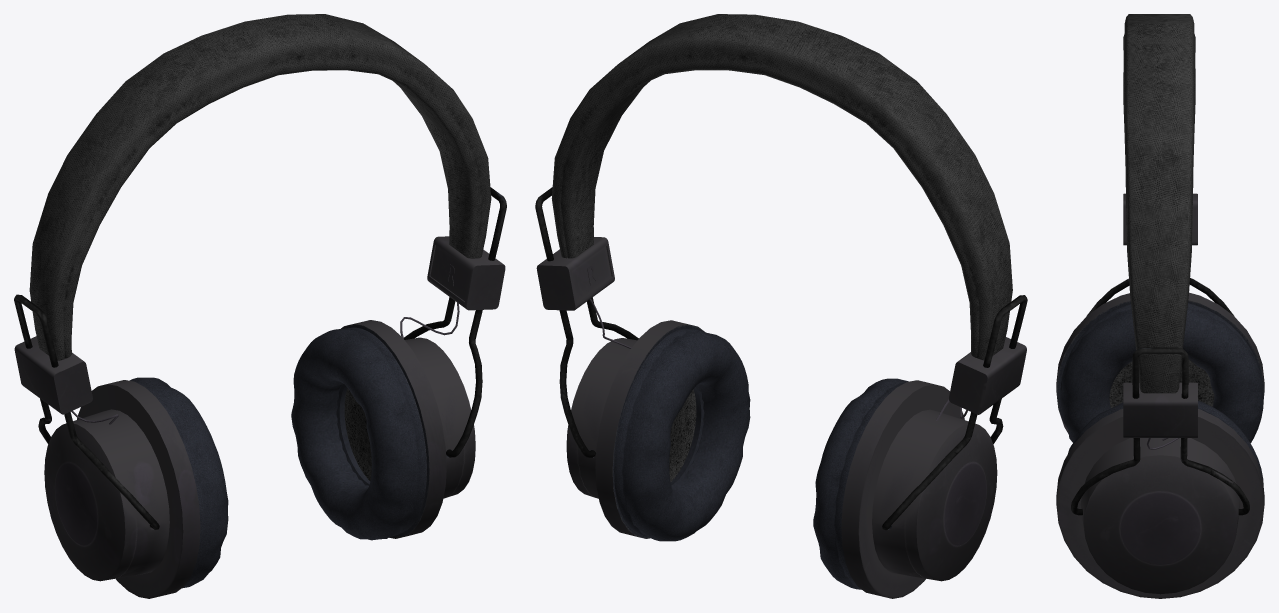
Rendered from headphonesSF.fbx.
The picture shows the model from 3 angles, left to right: view 1: azimuth 30°, elevation 25°; view 2: azimuth 150°, elevation 25°; view 3: azimuth 270°, elevation 25°; orthographic projection. The views are drawn at different scales.
Parts seen in each view (by area): view 1: Headset; view 2: Headset; view 3: Headset.
Boxes of the visible parts, x1,y1,x2,y2 form: Headset: (14,14,506,598); Headset: (535,14,1027,598); Headset: (1056,14,1264,598).
Bounding box in the file's own units: 16.89 × 18.14 × 6.88.
